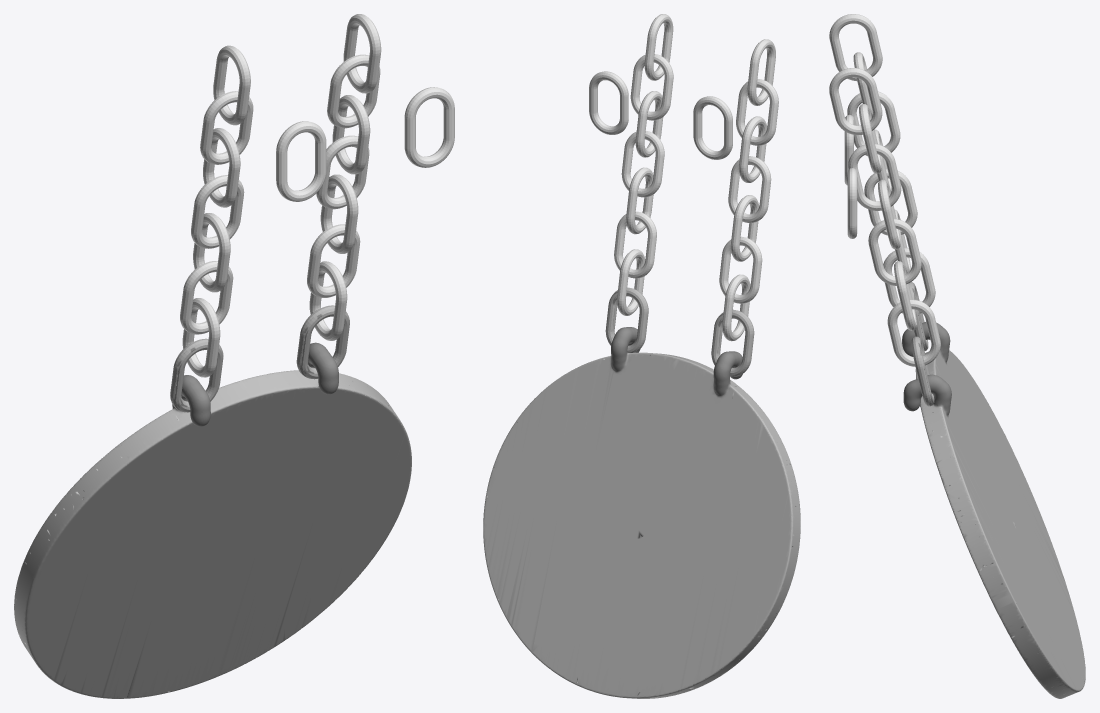
The model's file is sign-animation-combined2.glb.
3 renders of one model, left to right at view 1: azimuth 30°, elevation 25°; view 2: azimuth 150°, elevation 25°; view 3: azimuth 270°, elevation 25°, orthographic. The views are drawn at different scales.
Visible parts, largest first — view 1: Torus.074, Torus.072, Torus.071, Torus.050, Torus.056, Torus.062, Torus.059, Torus.051, Torus.001, Torus.063, Torus.070, Torus.058 (+4 smaller); view 2: Torus.074, Torus.072, Torus.002, Torus.070, Torus.062, Torus.059, Torus.051, Torus.056, Torus.050, Torus.071, Torus.058, Torus.060 (+4 smaller); view 3: Torus.074, Torus.071, Torus.061, Torus.063, Torus.050, Torus.001, Torus.072, Torus.058, Torus.053, Torus.060, Torus.062, Torus.002 (+2 smaller).
Boxes of the visible parts, box(x1,y1,x2,y2) form: Torus.074: box(14, 305, 411, 698); Torus.072: box(276, 87, 454, 201); Torus.071: box(343, 14, 381, 93); Torus.050: box(213, 45, 250, 125); Torus.056: box(191, 175, 244, 248); Torus.062: box(307, 224, 360, 297); Torus.059: box(180, 261, 233, 334); Torus.051: box(200, 91, 253, 164); Torus.001: box(332, 95, 370, 174); Torus.063: box(320, 174, 358, 253); Torus.070: box(327, 54, 380, 128); Torus.058: box(193, 213, 230, 292); Torus.074: box(483, 287, 800, 698); Torus.072: box(589, 71, 732, 159); Torus.002: box(621, 131, 664, 197); Torus.070: box(630, 54, 673, 120); Torus.062: box(614, 211, 656, 278); Torus.059: box(719, 236, 762, 303); Torus.051: box(736, 79, 778, 145); Torus.056: box(728, 156, 771, 222); Torus.050: box(747, 39, 775, 105); Torus.071: box(644, 14, 673, 80); Torus.058: box(730, 195, 759, 261); Torus.060: box(722, 274, 750, 341); Torus.074: box(902, 282, 1085, 698); Torus.071: box(829, 68, 882, 134); Torus.061: box(887, 299, 940, 366); Torus.063: box(868, 218, 921, 285); Torus.050: box(829, 14, 882, 80); Torus.001: box(848, 144, 901, 210); Torus.072: box(844, 114, 857, 238); Torus.058: box(864, 169, 917, 235); Torus.053: box(847, 91, 900, 156); Torus.060: box(883, 248, 935, 313); Torus.062: box(894, 261, 916, 330); Torus.002: box(878, 179, 900, 249).
Bounding box in the file's own units: 7.39 × 13.99 × 5.1.
Materials: 1 (1 with a texture image).
